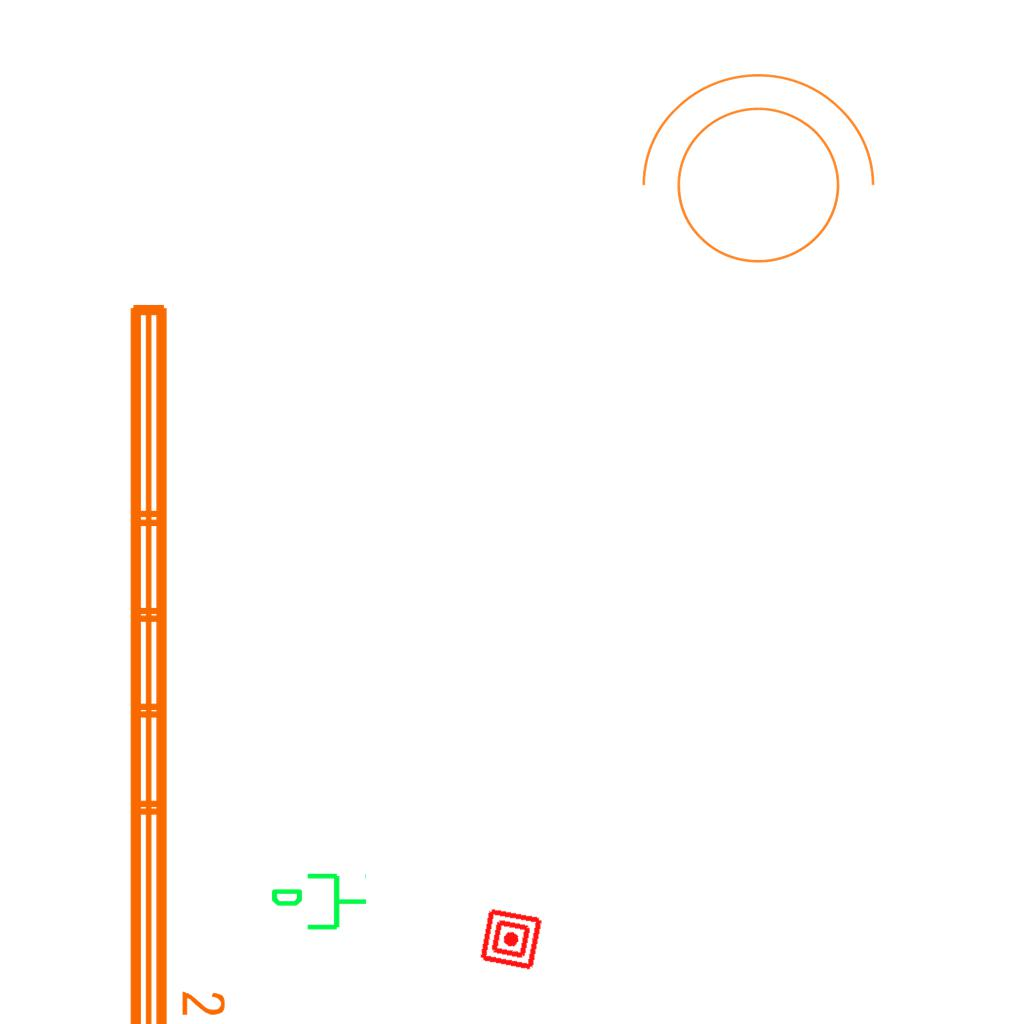Ambulanz_Pendelleuchte_LED: (118, 294, 230, 1024)
Datenanschluss_einfach: (269, 869, 369, 938)
NAM-Nichtautomatischer_Melder: (478, 906, 544, 972)
Scheinwerfer_fuer_Alarmbeleuchtung: (620, 63, 884, 288)
